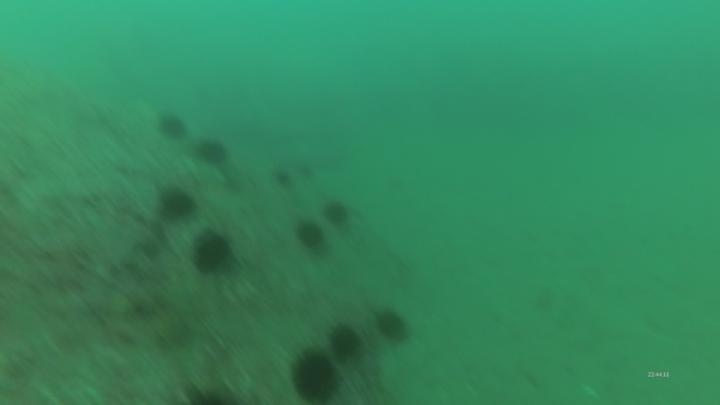echinus: (287, 347, 342, 403), (190, 229, 235, 277), (372, 306, 412, 346), (326, 321, 364, 363), (157, 185, 198, 221), (293, 218, 328, 253), (193, 136, 231, 168), (155, 111, 189, 142), (321, 198, 353, 228), (272, 167, 295, 189)
